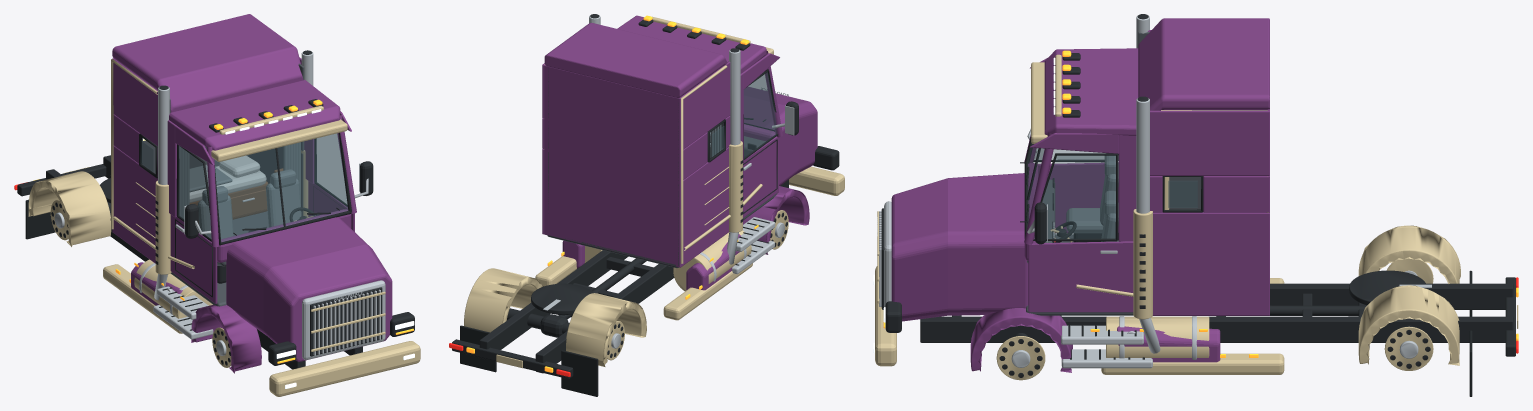
Rendered from RoadPalace.fbx.
3 views of the same model, side by side, from view 1: azimuth 30°, elevation 25°; view 2: azimuth 150°, elevation 25°; view 3: azimuth 270°, elevation 25° (orthographic). The views are drawn at different scales.
Visible parts, largest first — view 1: CabExterior__TT_Paint_Primary, Chassis__TT_Paint_Primary, Chassis__TT_MetalTrim, CabExterior__TT_Glass, Chassis__TT_Chrome, Chassis__TT_Chassis, CabInterior__TT_Fabric, CabExterior__TT_MetalTrim, CabInterior__TT_Interior, CabExterior__TT_Rubber, CabExterior__TT_Chrome, CabExterior__TT_Chassis (+4 smaller); view 2: CabExterior__TT_Paint_Primary, Chassis__TT_MetalTrim, Chassis__TT_Chassis, Chassis__TT_Paint_Primary, CabExterior__TT_Glass, Chassis__TT_Rubber, Chassis__TT_Chrome, CabExterior__TT_Chrome, CabExterior__TT_Rubber, CabInterior__TT_Interior, CabExterior__TT_MetalTrim, CabExterior__TT_Chassis; view 3: CabExterior__TT_Paint_Primary, Chassis__TT_Paint_Primary, Chassis__TT_Chassis, Chassis__TT_MetalTrim, CabExterior__TT_Glass, Chassis__TT_Chrome, CabExterior__TT_Chrome, CabInterior__TT_Interior, CabExterior__TT_Rubber, CabInterior__TT_Fabric, CabExterior__TT_Chassis, Wheel_RL__TT_MetalTrim (+3 smaller).
Boxes of the visible parts, box(x1,y1,x2,y2) form: CabExterior__TT_Paint_Primary: box(112, 14, 356, 303); Chassis__TT_Paint_Primary: box(131, 217, 392, 373); Chassis__TT_MetalTrim: box(28, 105, 420, 396); CabExterior__TT_Glass: box(141, 133, 347, 241); Chassis__TT_Chrome: box(139, 52, 385, 359); Chassis__TT_Chassis: box(17, 50, 414, 369); CabInterior__TT_Fabric: box(179, 142, 301, 238); CabExterior__TT_MetalTrim: box(111, 59, 347, 238); CabInterior__TT_Interior: box(142, 63, 304, 306); CabExterior__TT_Rubber: box(139, 133, 351, 330); CabExterior__TT_Chrome: box(153, 178, 368, 339); CabExterior__TT_Chassis: box(185, 99, 373, 238); CabExterior__TT_Paint_Primary: box(542, 15, 782, 267); Chassis__TT_MetalTrim: box(464, 16, 844, 368); Chassis__TT_Chassis: box(452, 14, 839, 378); Chassis__TT_Paint_Primary: box(562, 87, 817, 290); CabExterior__TT_Glass: box(712, 72, 777, 157); Chassis__TT_Rubber: box(460, 119, 765, 396); Chassis__TT_Chrome: box(543, 15, 788, 310); CabExterior__TT_Chrome: box(732, 123, 784, 274); CabExterior__TT_Rubber: box(707, 69, 778, 265); CabInterior__TT_Interior: box(547, 61, 777, 267); CabExterior__TT_MetalTrim: box(544, 47, 773, 263); CabExterior__TT_Chassis: box(638, 19, 798, 135); CabExterior__TT_Paint_Primary: box(1024, 18, 1269, 315); Chassis__TT_Paint_Primary: box(891, 173, 1220, 372); Chassis__TT_Chassis: box(881, 14, 1515, 356); Chassis__TT_MetalTrim: box(875, 54, 1518, 374); CabExterior__TT_Glass: box(1027, 144, 1197, 238); Chassis__TT_Chrome: box(877, 16, 1431, 359); CabExterior__TT_Chrome: box(1027, 129, 1152, 368); CabInterior__TT_Interior: box(1026, 32, 1266, 315); CabExterior__TT_Rubber: box(1024, 138, 1203, 359); CabInterior__TT_Fabric: box(1066, 153, 1118, 241); CabExterior__TT_Chassis: box(1026, 53, 1080, 244); Wheel_RL__TT_MetalTrim: box(1384, 326, 1433, 370).
Bounding box in the file's own units: 312 × 407 × 794.
